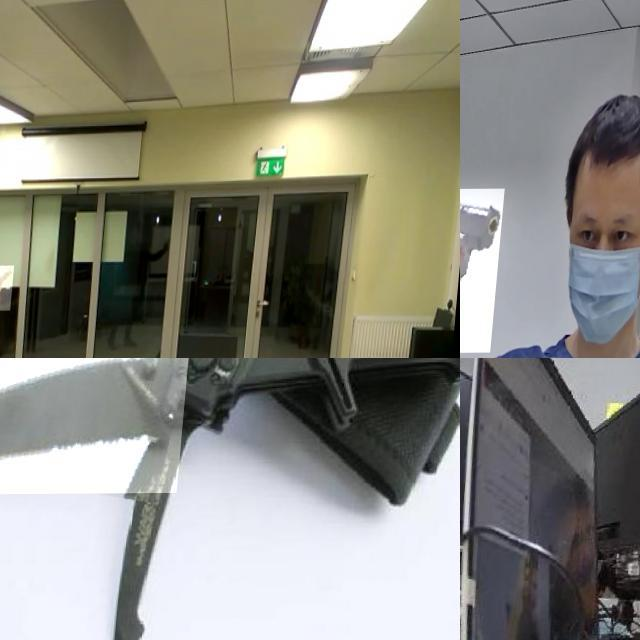-: (0, 358, 198, 495)
gun-knife-thesis - v11 Yolov5 augmented: (460, 188, 511, 353), (0, 265, 19, 310)
